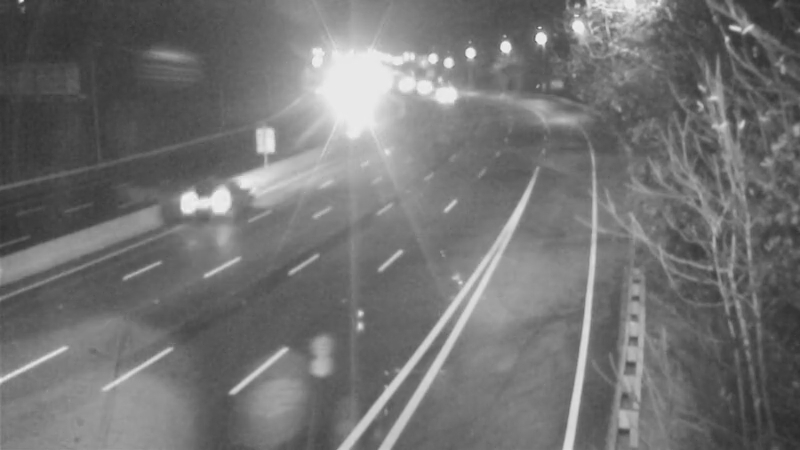vehicle: (163, 159, 243, 239), (419, 69, 469, 119)
